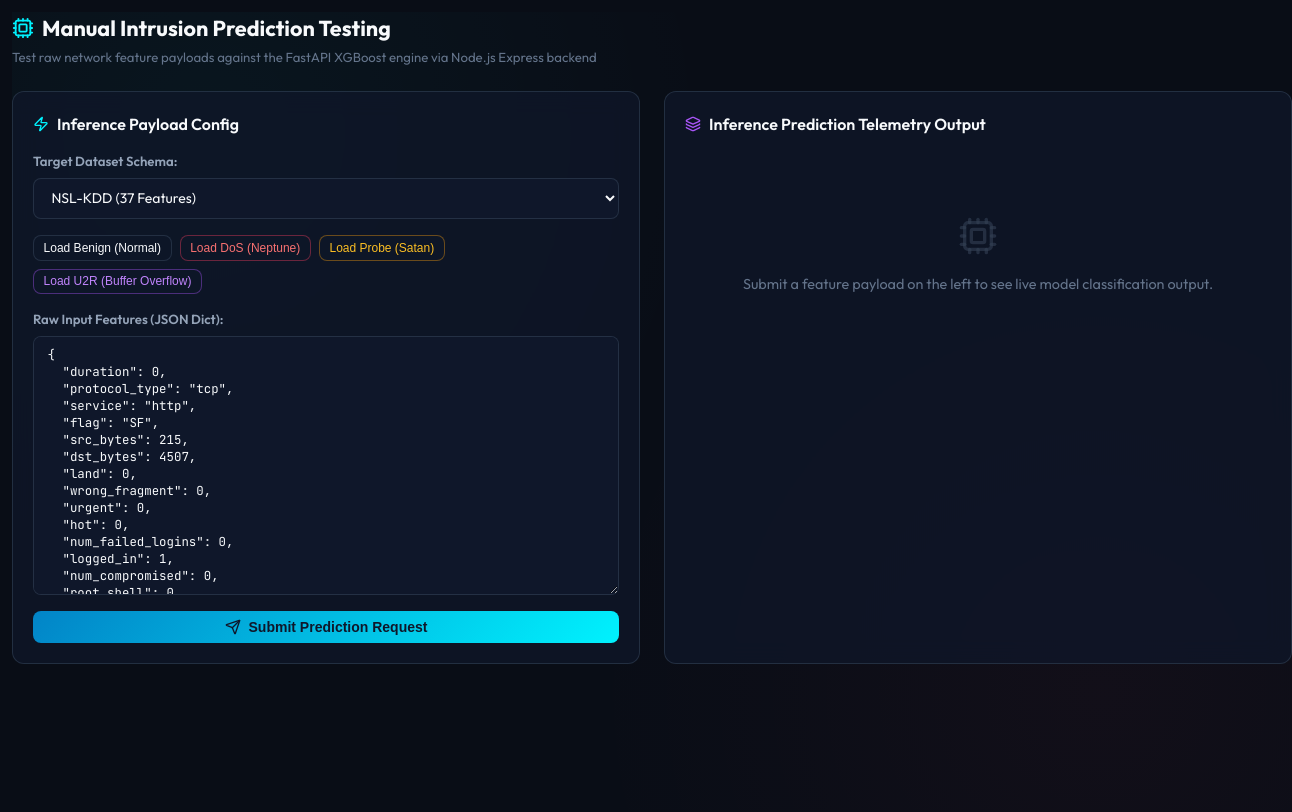
Test case: PHASE 20.5: Manual CICIDS2017 DoS Hulk Prediction Integrity Audit Tests › switching dataset to CICIDS2017 renders DoS Hulk, DDoS, and Benign preset buttons
This screenshot has width=1292, height=812.
Select "CICIDS2017 (43 Features)" in the dropdown at x=326, y=198, box [33,178,619,219]
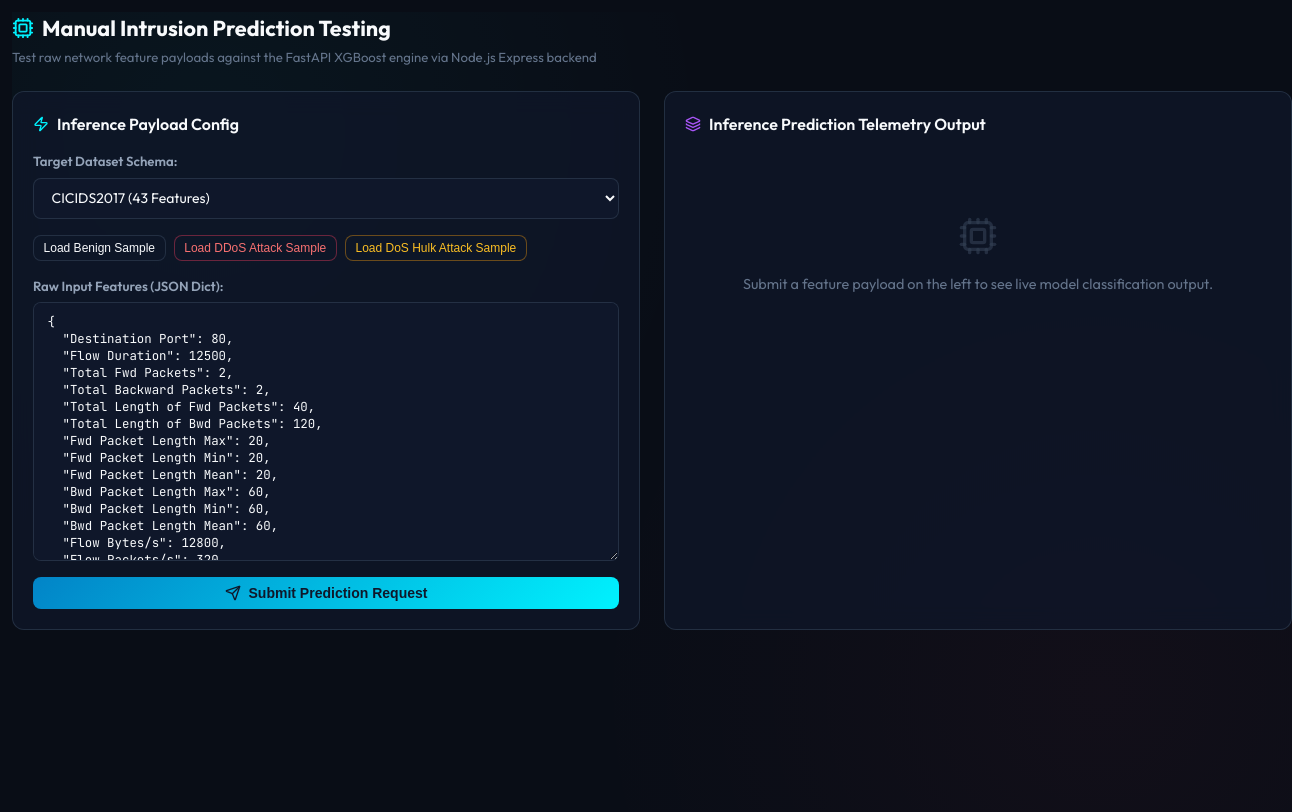
Now the button "Load Benign Sample" is shown, box [33,235,166,261]
Now the button "Load DDoS Attack Sample" is shown, box [174,235,337,261]
Now the button "Load DoS Hulk Attack Sample" is shown, box [345,235,527,261]
